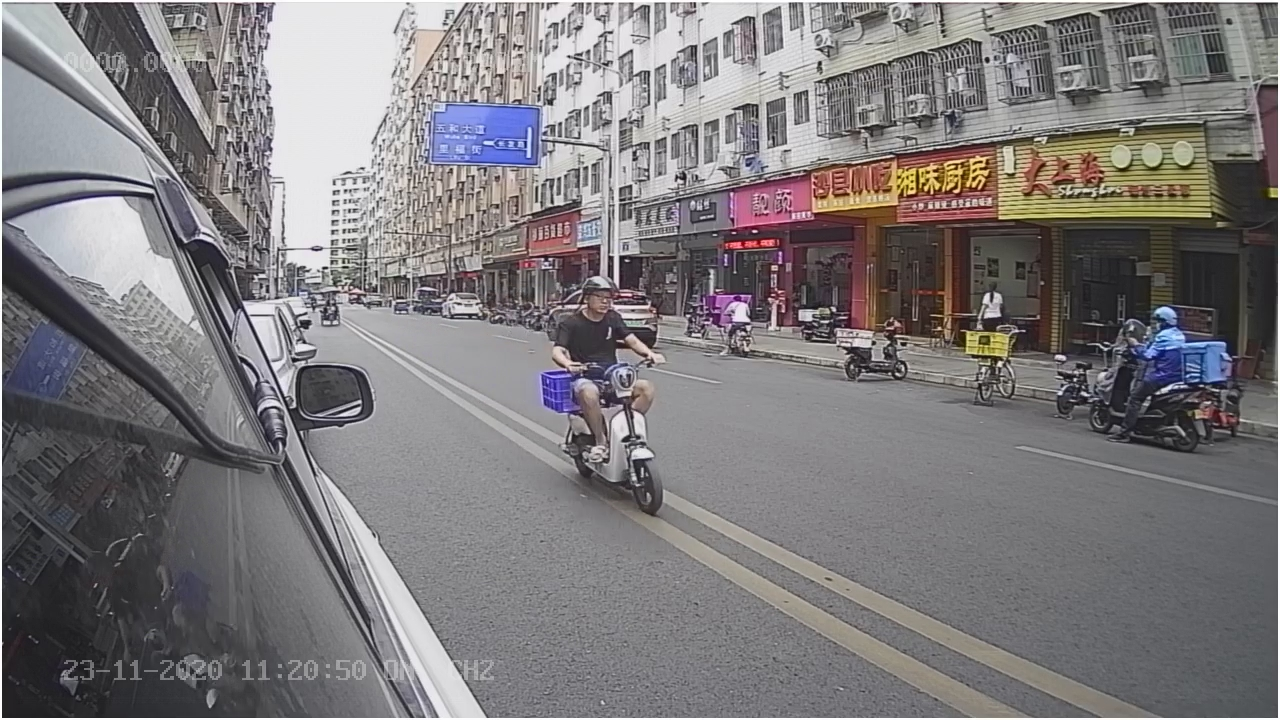person: (549, 270, 662, 362)
